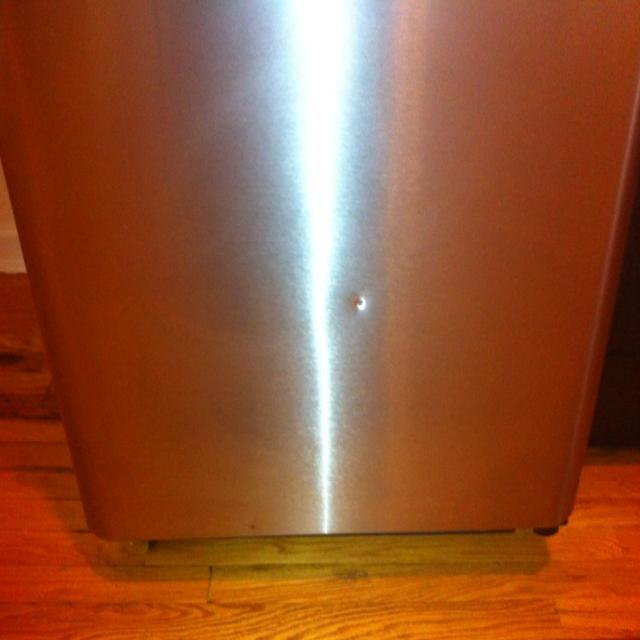dents: (348, 273, 381, 351)
